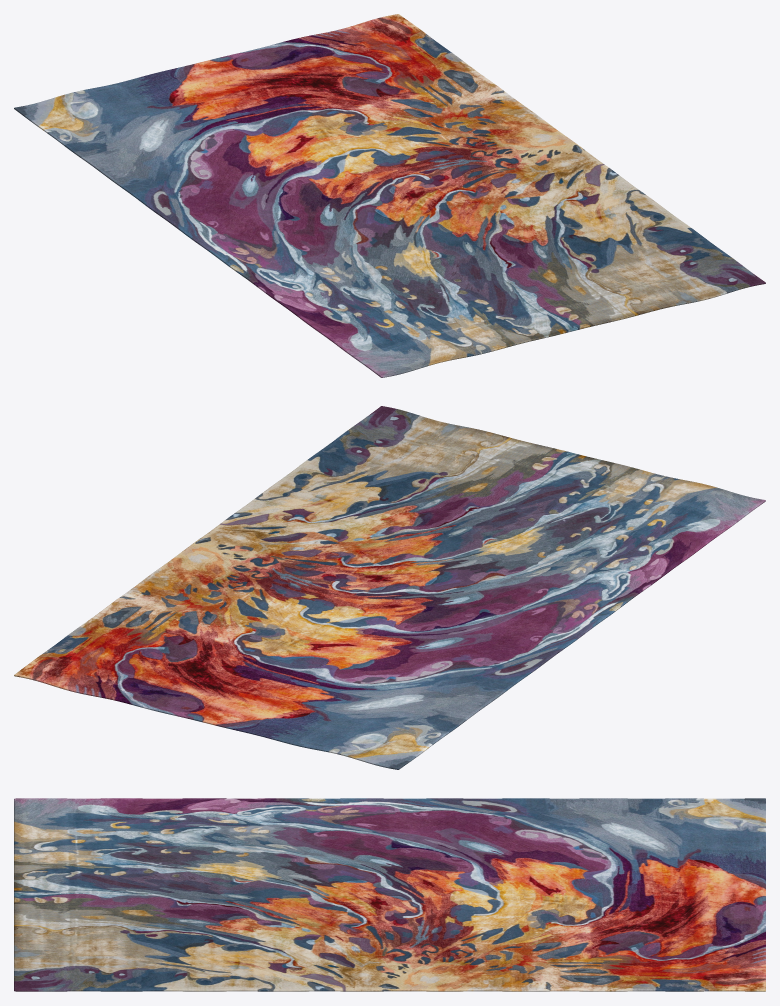
Rendered from office rug.gltf.
The picture shows the model from 3 angles, top to bottom: view 1: azimuth 30°, elevation 25°; view 2: azimuth 150°, elevation 25°; view 3: azimuth 270°, elevation 25°; orthographic projection. The views are drawn at different scales.
Parts seen in each view (by area): view 1: AnsyCarpet.006; view 2: AnsyCarpet.006; view 3: AnsyCarpet.006.
Boxes of the visible parts, bbox=[...] form: AnsyCarpet.006: bbox=[14, 14, 765, 377]; AnsyCarpet.006: bbox=[14, 406, 765, 769]; AnsyCarpet.006: bbox=[14, 798, 765, 991].
Bounding box in the file's own units: 0.822 × 0.00849 × 1.36.
1 material, 1 textured.
